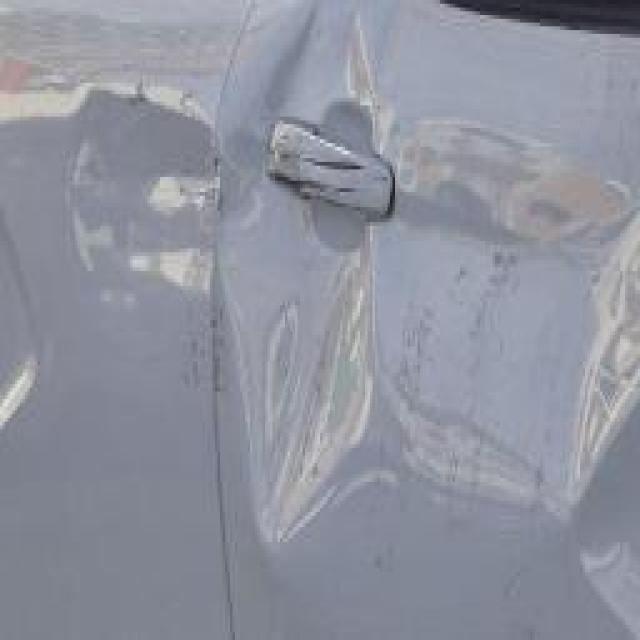Door: (170, 4, 540, 550)
